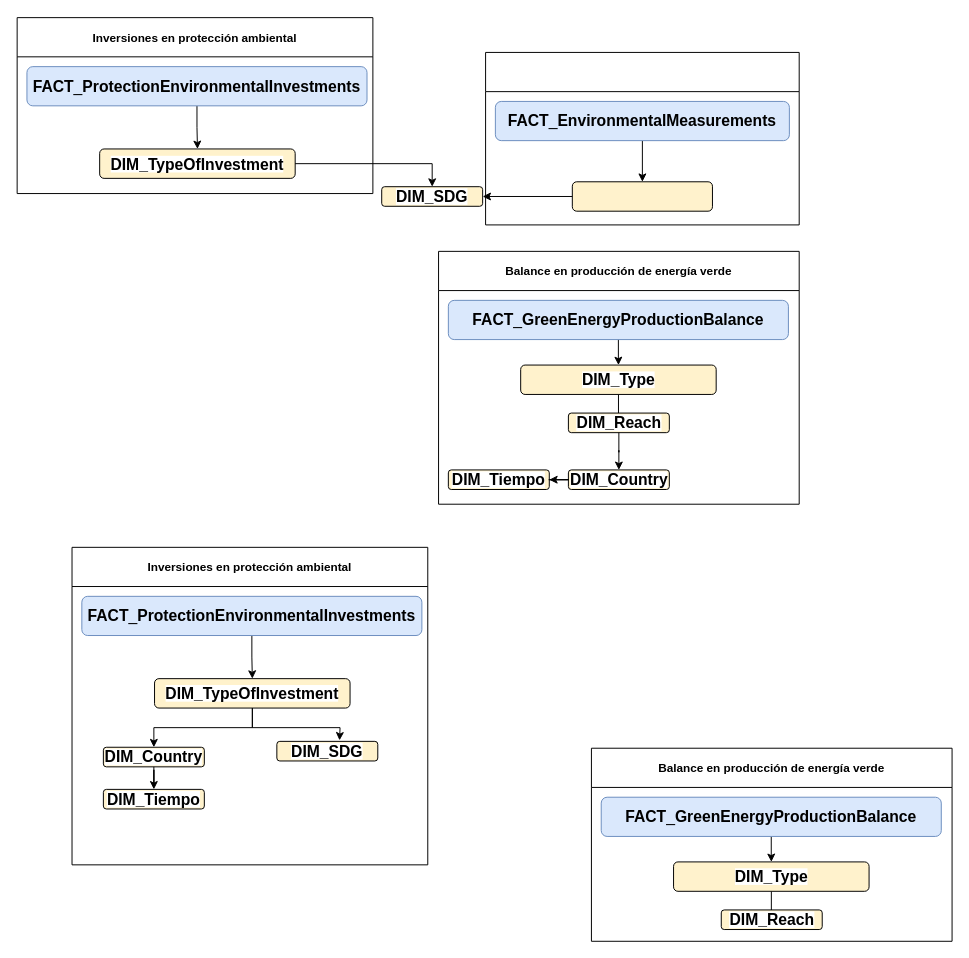
Some shapes in this 969 by 958 pixel diagram are drawn without their labels. The shapes that lost their labels are listed below. From the top down, each one's box as (x1, y1, x2, y2) in pixels, then its label:
(485, 51, 799, 225): Mediciones ambientales
(571, 181, 712, 211): DIM_Measurement
